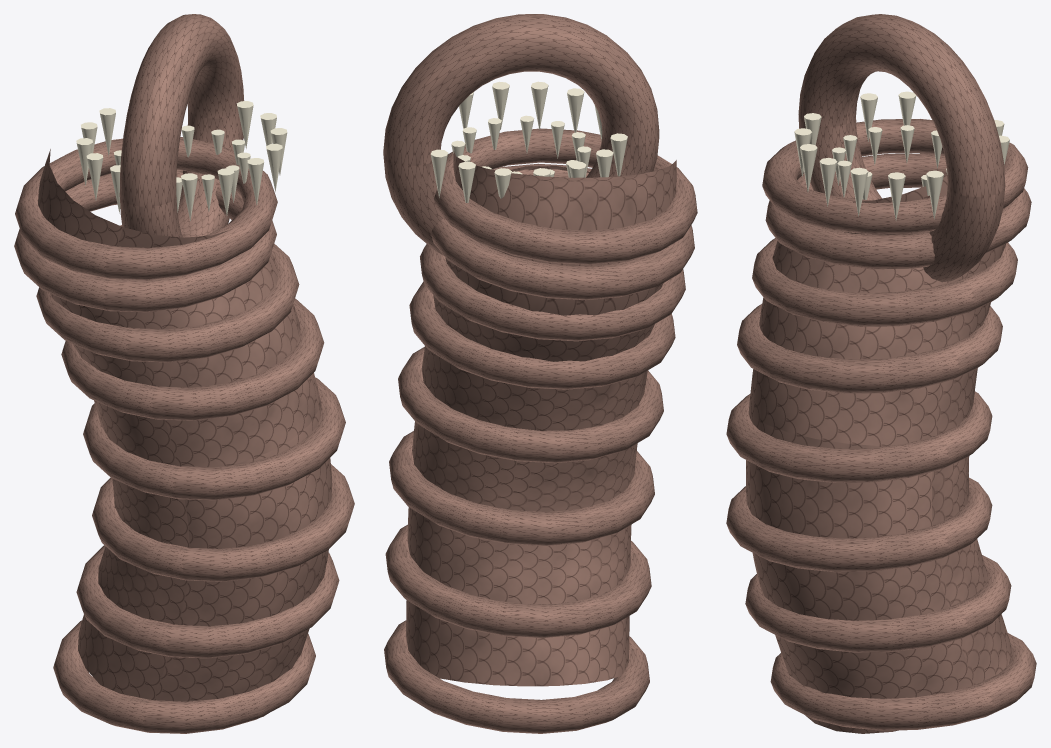
Rendered from gusano_sand.glb.
3 views of the same model, side by side, from view 1: azimuth 30°, elevation 25°; view 2: azimuth 150°, elevation 25°; view 3: azimuth 270°, elevation 25° (orthographic). The views are drawn at different scales.
Parts seen in each view (by area): view 1: body, head; view 2: body, head; view 3: body, head.
Part boxes in pixels (x1=…): body: x1=14, y1=137, x2=354, y2=733; head: x1=76, y1=14, x2=287, y2=237; body: x1=384, y1=128, x2=697, y2=733; head: x1=383, y1=14, x2=659, y2=255; body: x1=726, y1=119, x2=1036, y2=733; head: x1=794, y1=14, x2=1009, y2=282.
Bounding box in the file's own units: 1.45 × 3.22 × 1.35.
2 materials, 1 textured.
